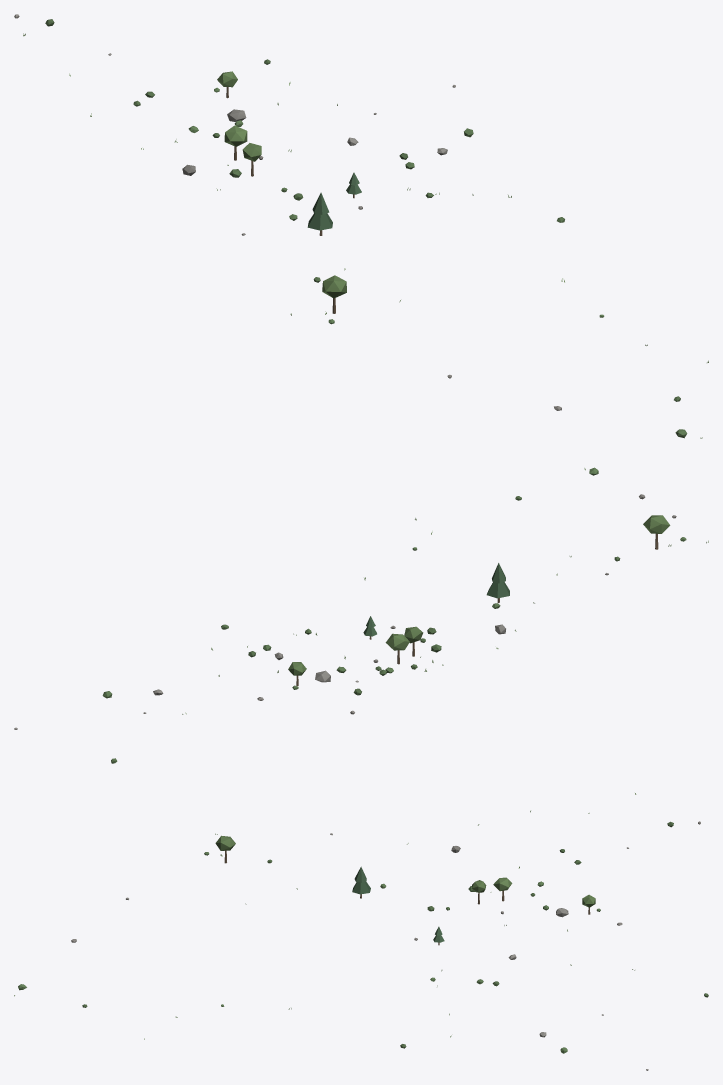
Rendered from arch_land_scatter_c21_19_lod1.glb.
The picture shows the model from 3 angles, top to bottom: view 1: azimuth 30°, elevation 25°; view 2: azimuth 150°, elevation 25°; view 3: azimuth 270°, elevation 25°; orthographic projection. The views are drawn at different scales.
Parts seen in each view (by area): view 1: arch_land_scatter_c21_19_lod1; view 2: arch_land_scatter_c21_19_lod1; view 3: arch_land_scatter_c21_19_lod1.
Boxes of the visible parts, x1,y1,x2,y2 form: arch_land_scatter_c21_19_lod1: (14,14,708,438); arch_land_scatter_c21_19_lod1: (14,467,708,763); arch_land_scatter_c21_19_lod1: (14,793,708,1070).
Bounding box in the file's own units: 119 × 41.97 × 213.
